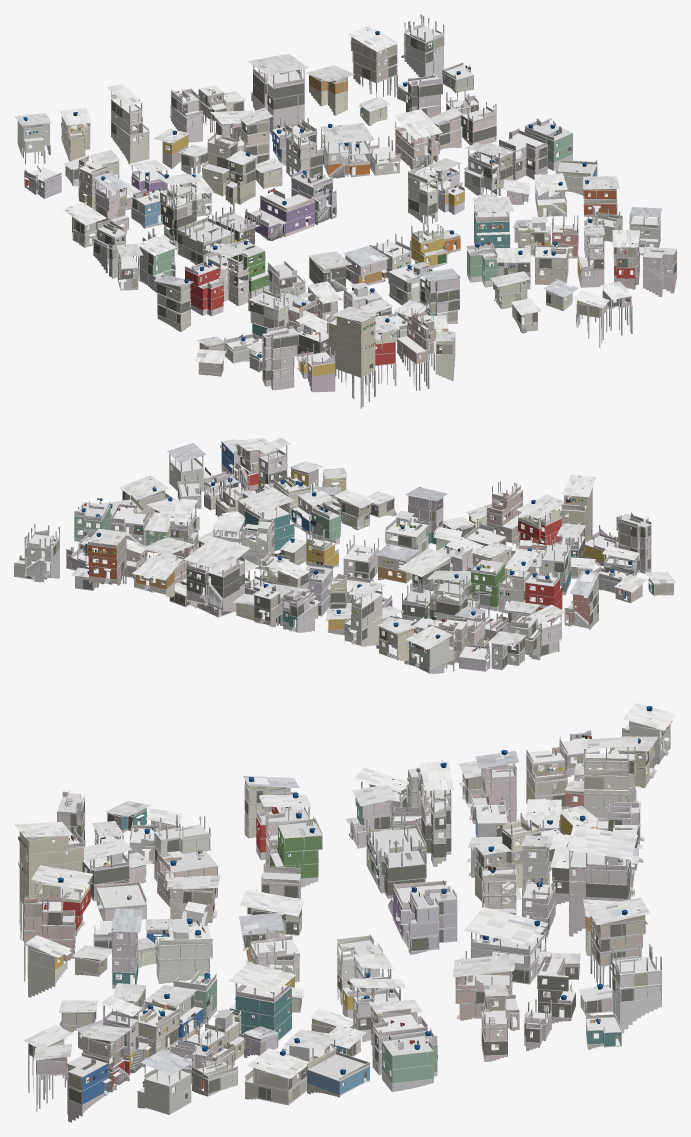
The picture shows the model from 3 angles, top to bottom: view 1: azimuth 30°, elevation 25°; view 2: azimuth 150°, elevation 25°; view 3: azimuth 270°, elevation 25°; orthographic projection. The views are drawn at different scales.
Parts seen in each view (by area): view 1: T_27_24; view 2: T_27_24; view 3: T_27_24.
Boxes of the visible parts, left/top/right/bottom form: T_27_24: left=14, top=14, right=676, bottom=408; T_27_24: left=14, top=437, right=676, bottom=674; T_27_24: left=14, top=703, right=676, bottom=1122.
Bounding box in the file's own units: 135 × 40.01 × 123.
